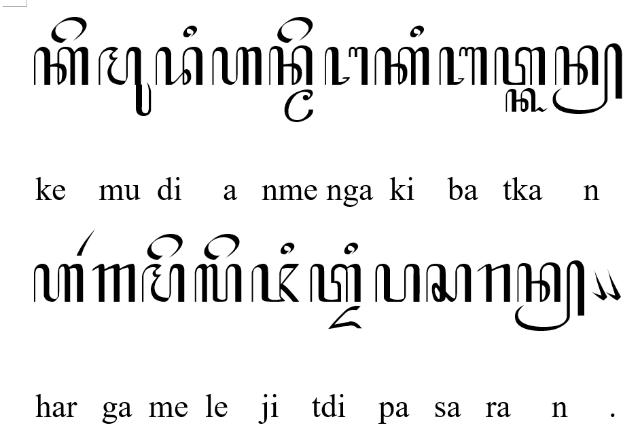-n: (551, 42, 623, 116), (513, 260, 585, 332)
_d: (329, 306, 363, 330)
_k: (505, 88, 547, 114)
_m: (282, 88, 314, 122)
_r1: (76, 228, 95, 256)
b: (438, 46, 488, 86)
d: (156, 46, 204, 86)
e: (50, 16, 88, 44), (276, 17, 314, 43), (146, 234, 184, 260), (204, 234, 242, 260)
g: (92, 264, 136, 302)
h: (211, 46, 263, 86), (32, 263, 84, 303)
i: (410, 24, 424, 38), (182, 26, 198, 38), (280, 242, 294, 255), (344, 243, 358, 255)
j: (250, 262, 300, 304)
k: (33, 46, 89, 86), (374, 47, 430, 85)
kom: (605, 271, 621, 301), (591, 272, 607, 300)
l: (194, 264, 242, 304)
m: (141, 264, 185, 304)
mu: (97, 46, 151, 116)
n: (268, 46, 314, 86)
nga: (324, 46, 368, 86)
p: (375, 264, 421, 304)
r: (477, 263, 511, 303)
s: (425, 262, 471, 304)
t: (494, 46, 546, 86), (310, 264, 362, 304)
